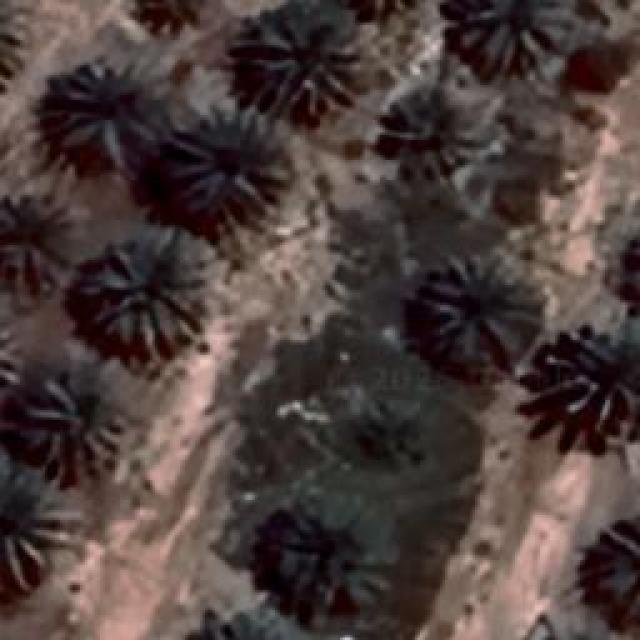PalmTree: (13, 48, 610, 568), (88, 230, 208, 352), (165, 102, 290, 216), (248, 2, 360, 116), (380, 70, 490, 175), (425, 252, 540, 352), (0, 174, 78, 306), (45, 60, 153, 155), (550, 318, 638, 432), (19, 380, 122, 475), (0, 471, 68, 604), (280, 530, 398, 605), (452, 0, 569, 72), (182, 606, 306, 640), (610, 214, 640, 312), (131, 0, 214, 35), (0, 293, 23, 411), (621, 218, 640, 312), (326, 0, 431, 16), (328, 0, 432, 11)
